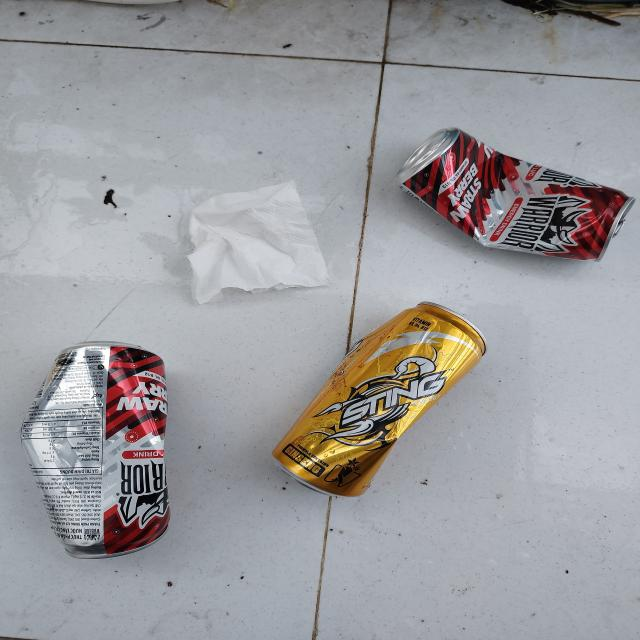can: (272, 300, 488, 498), (16, 341, 173, 560), (397, 126, 637, 263)
napkin: (186, 180, 332, 305)
